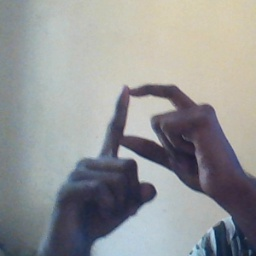D: (82, 81, 215, 185)
